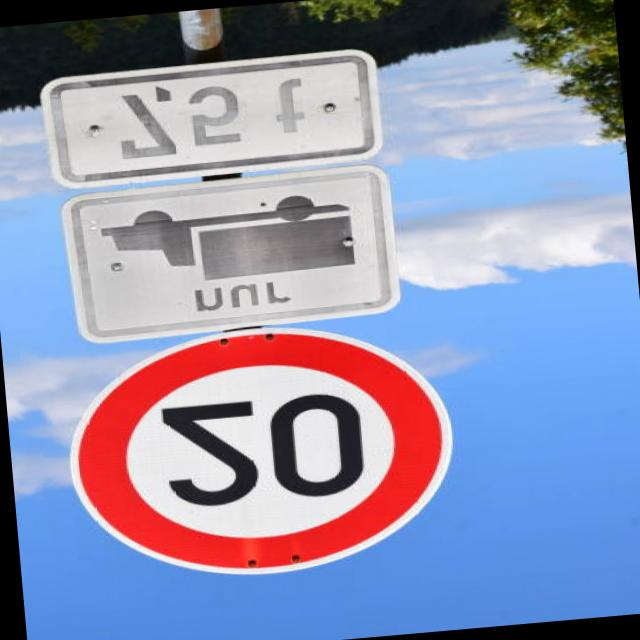speed_limit_20: (49, 314, 460, 607)
